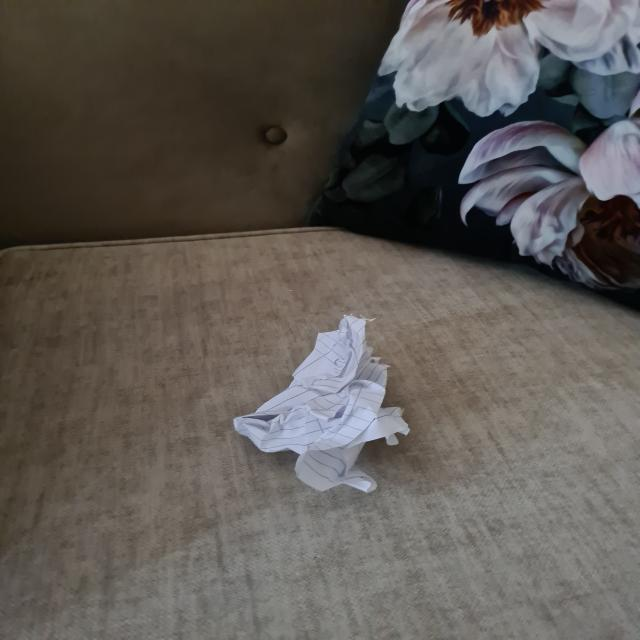Paper: (234, 317, 411, 499)
